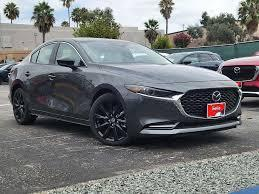mazda: (210, 88, 221, 100)
